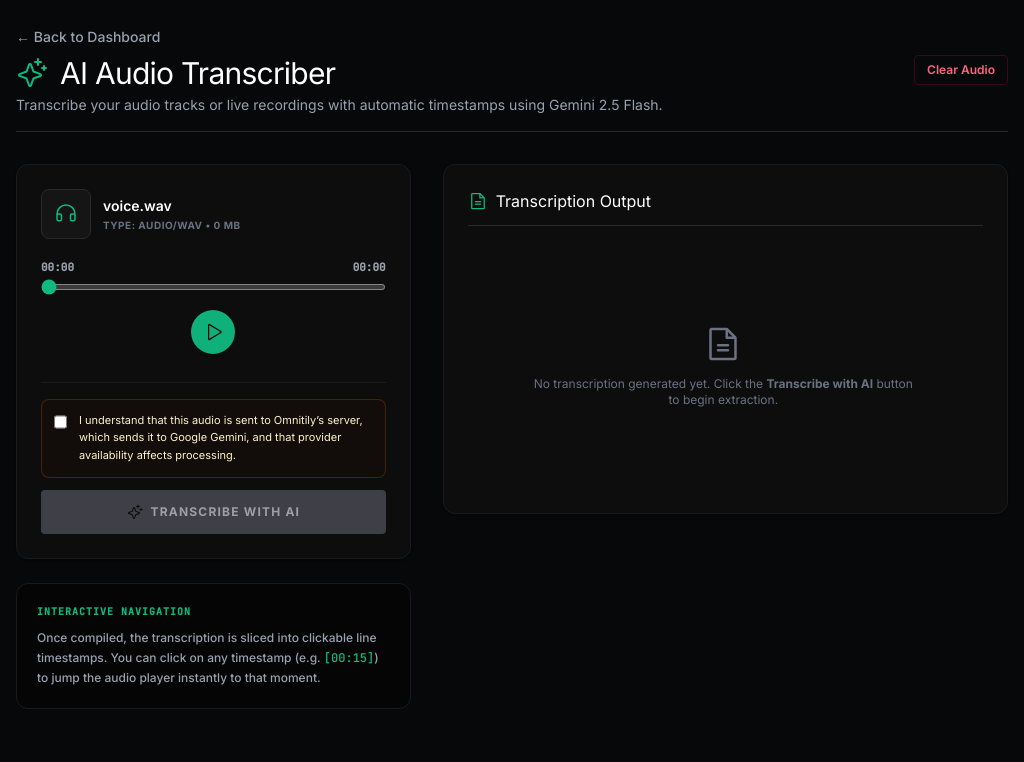
it: transcription frontend production contract › maps API status 429 safely
What coordinates should you click on to do the following:
click the checkbox
I would click on:
 (60, 422)
Its box is [54, 414, 67, 430].
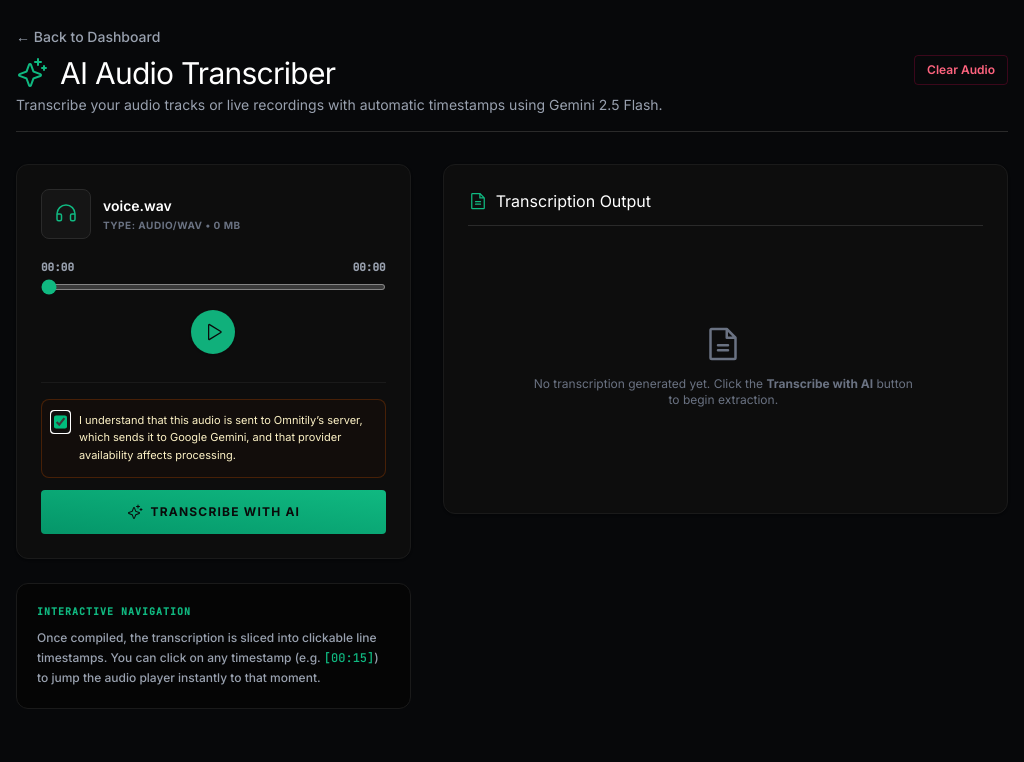
What coordinates should you click on to do the following:
click the button "Transcribe with AI"
I would click on:
 (213, 512)
Its box is [41, 490, 386, 534].
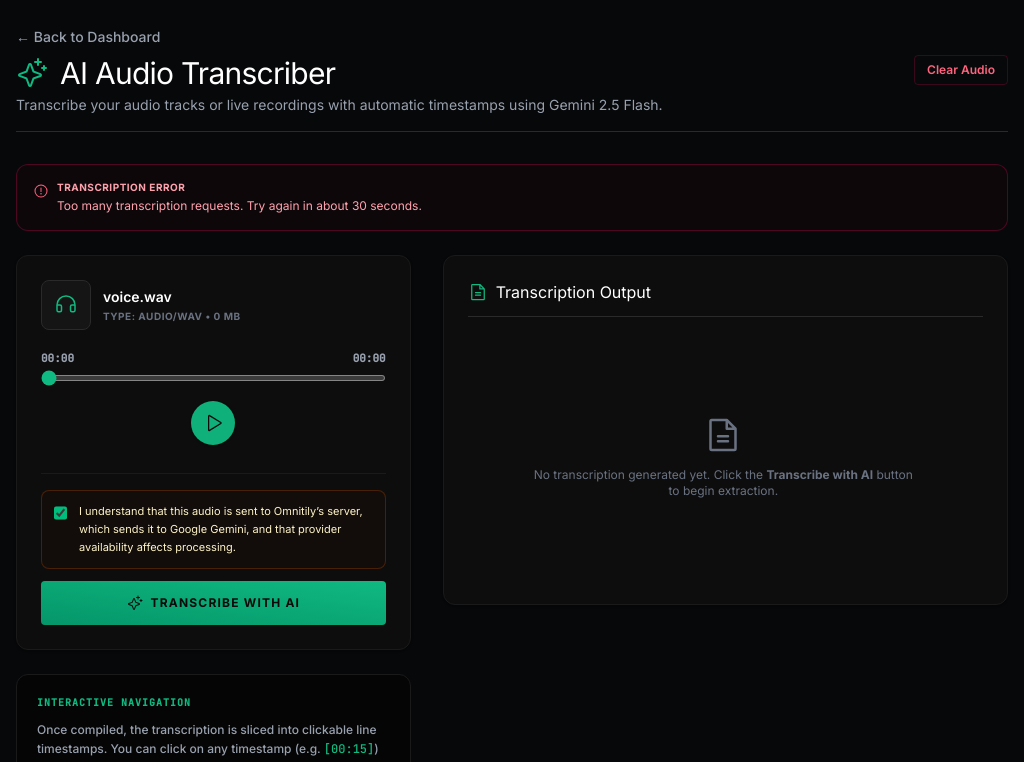
Now the text "Too many" is shown, box [57, 198, 422, 213]
